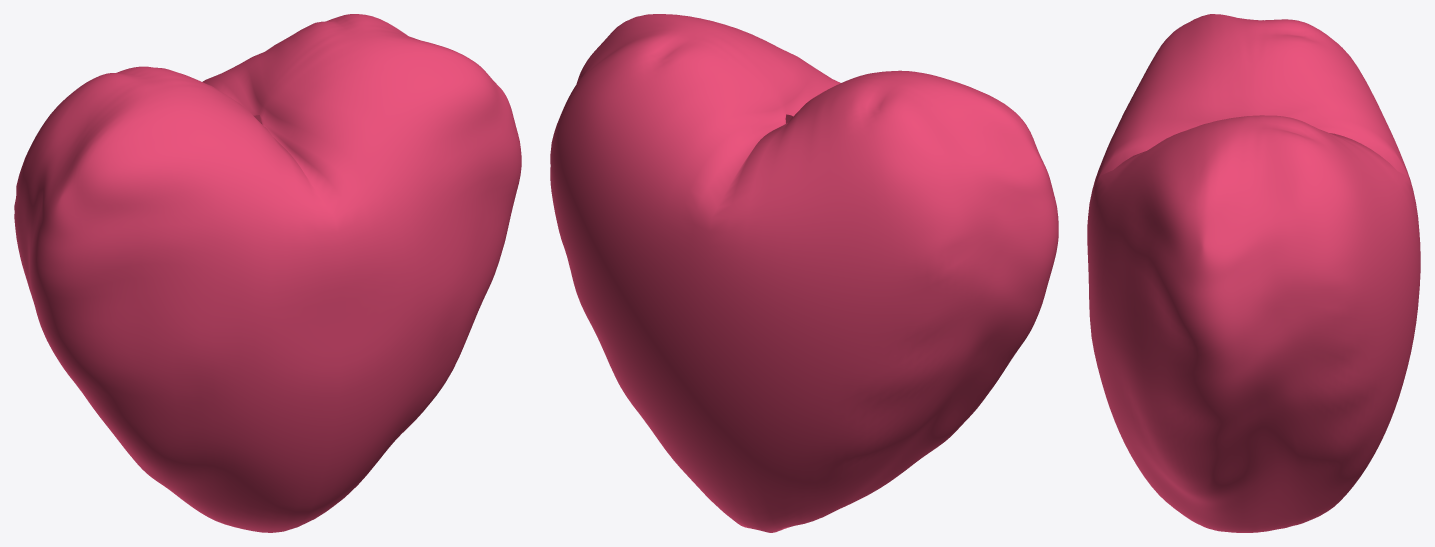
File: HeartBallon.fbx
The picture shows the model from 3 angles, left to right: view 1: azimuth 30°, elevation 25°; view 2: azimuth 150°, elevation 25°; view 3: azimuth 270°, elevation 25°; orthographic projection. The views are drawn at different scales.
Visible parts, largest first — view 1: Circle; view 2: Circle; view 3: Circle.
Boxes of the visible parts, x1,y1,x2,y2 form: Circle: (14, 14, 521, 532); Circle: (550, 14, 1058, 532); Circle: (1087, 14, 1420, 532).
Size of the model in its own units: 263 by 242 by 163.
